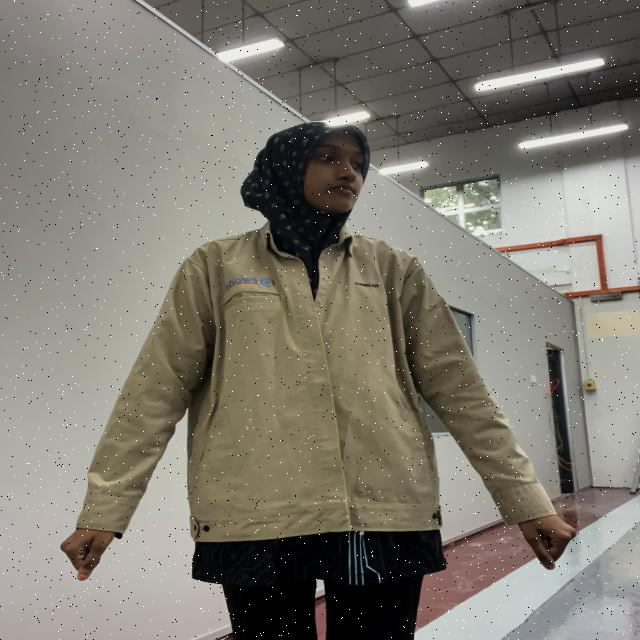person_with_labcoat: (61, 122, 575, 640)
